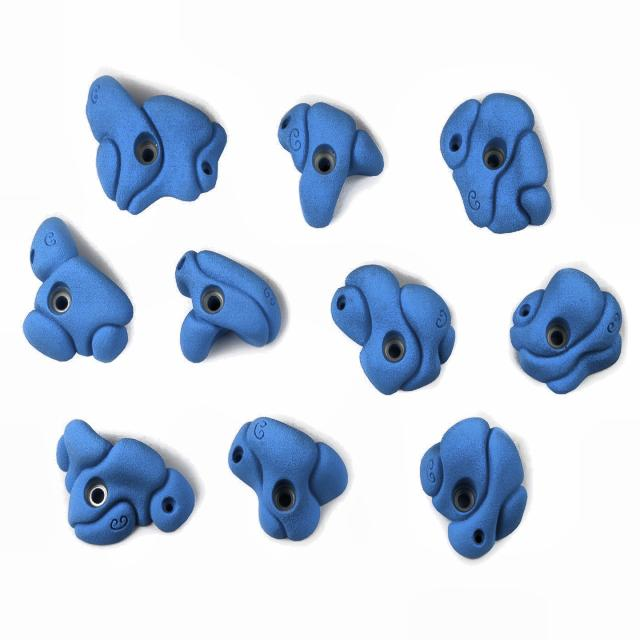Hold: (85, 72, 222, 209), (58, 409, 194, 542), (436, 94, 560, 235), (29, 212, 131, 367), (228, 413, 351, 541), (330, 267, 451, 393), (420, 419, 527, 554), (514, 262, 620, 392), (179, 237, 283, 362), (272, 106, 382, 224)
